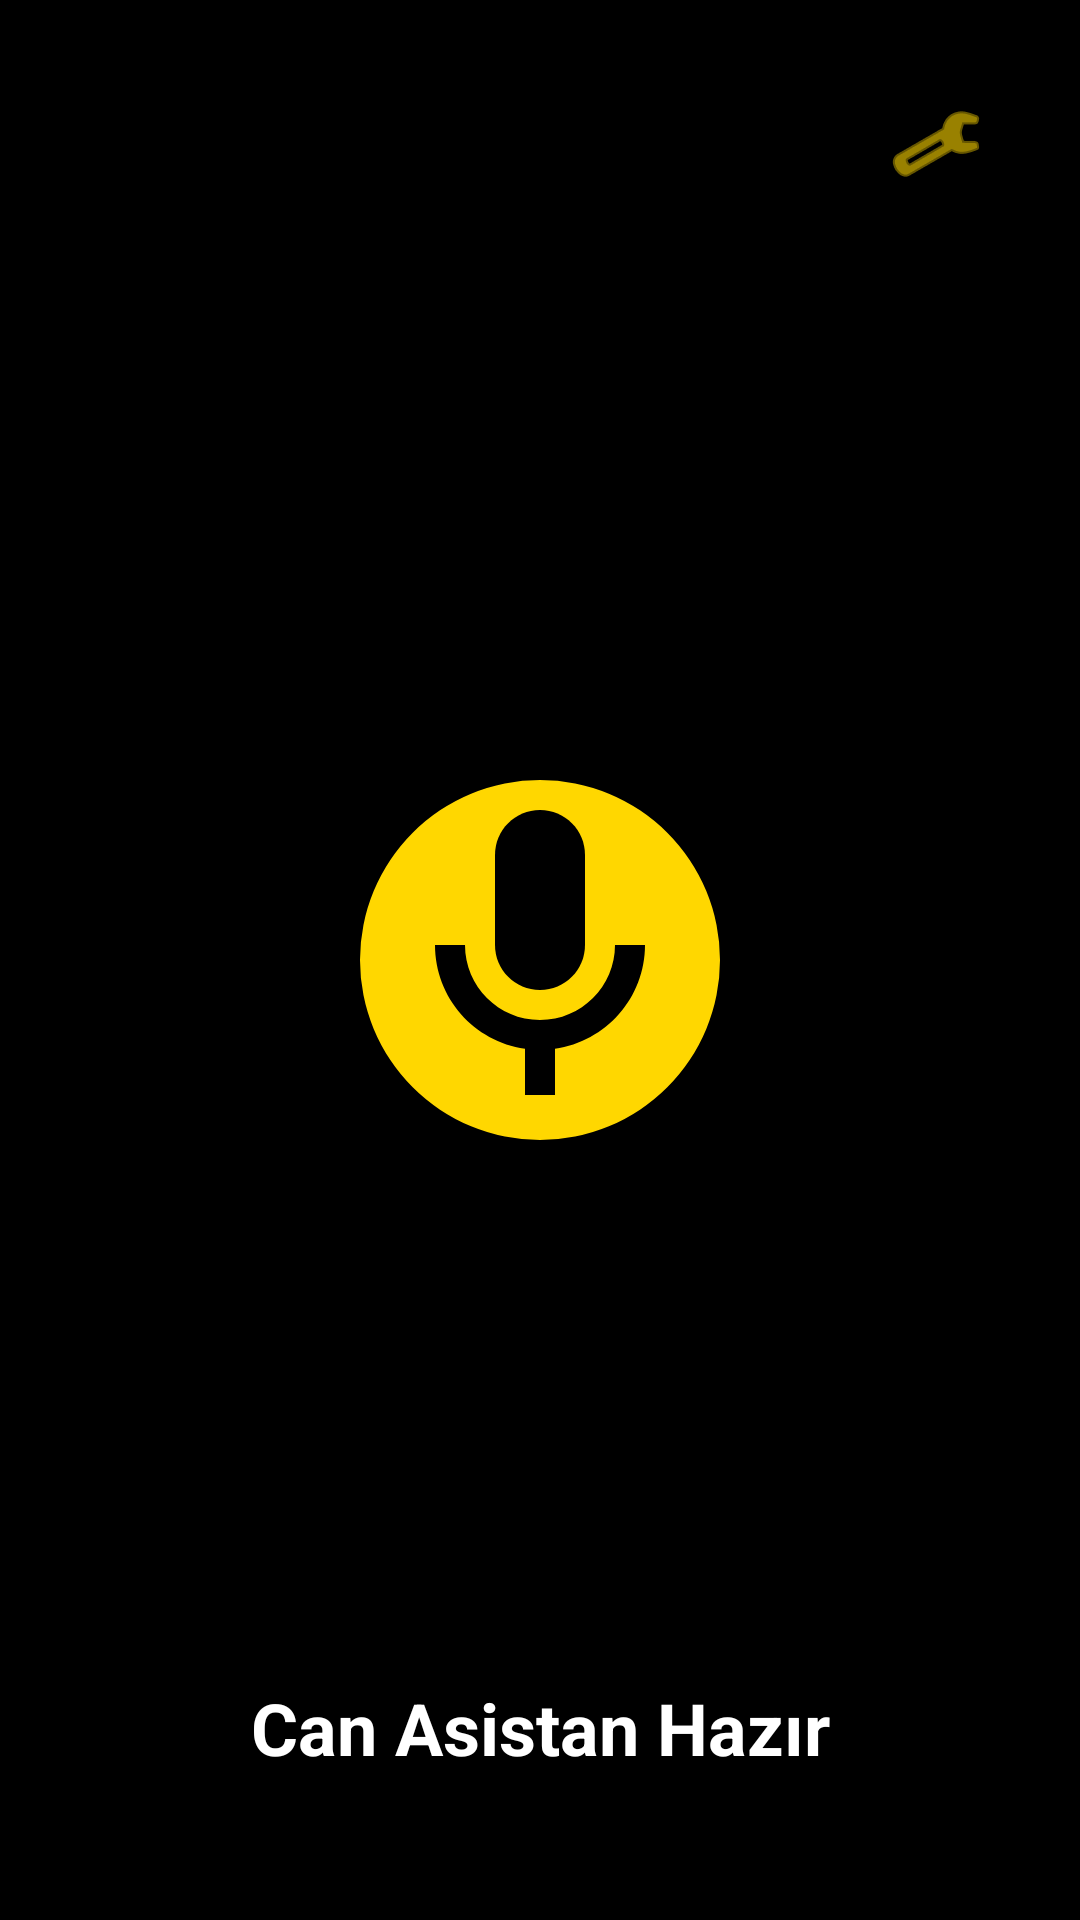

Icon click points for this 1080*1920 phone screenshot, format (x,y):
Ayarlar: (936,144)
mic: (540,960)
